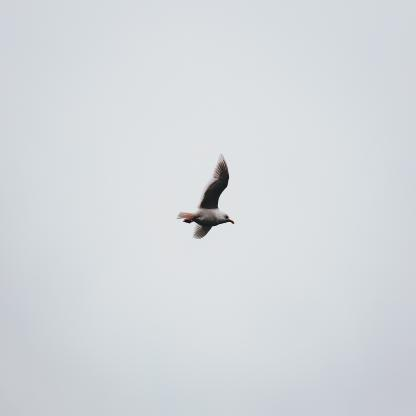bird: (176, 152, 235, 240)
